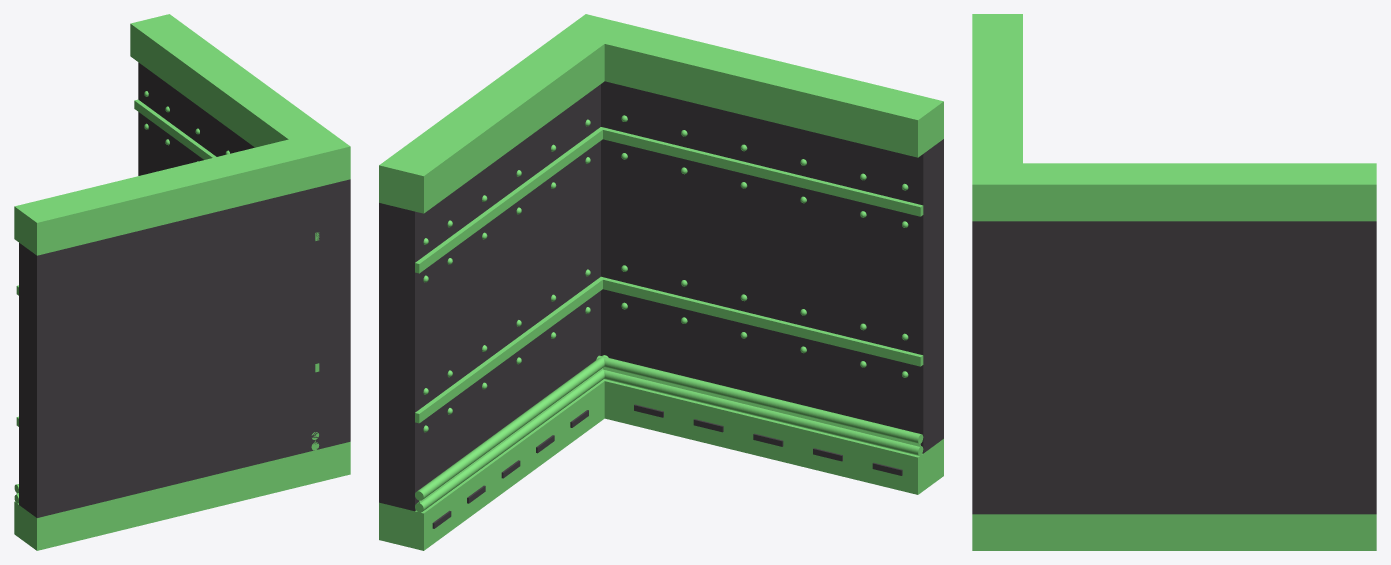
Rendered from Wall_Corner_A.fbx.
3 renders of one model, left to right at view 1: azimuth 30°, elevation 25°; view 2: azimuth 150°, elevation 25°; view 3: azimuth 270°, elevation 25°, orthographic. The views are drawn at different scales.
Parts seen in each view (by area): view 1: Wall_Corner_A; view 2: Wall_Corner_A; view 3: Wall_Corner_A.
Boxes of the visible parts, x1,y1,x2,y2 form: Wall_Corner_A: [14, 14, 350, 550]; Wall_Corner_A: [379, 14, 943, 550]; Wall_Corner_A: [972, 14, 1376, 550].
Size of the model in its own units: 200 by 200 by 200.
